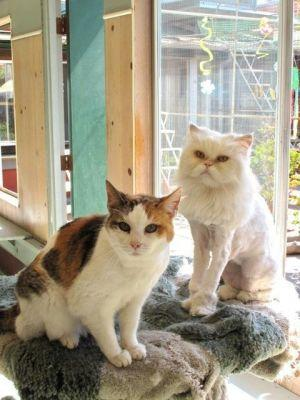persian: (178, 123, 266, 198)
